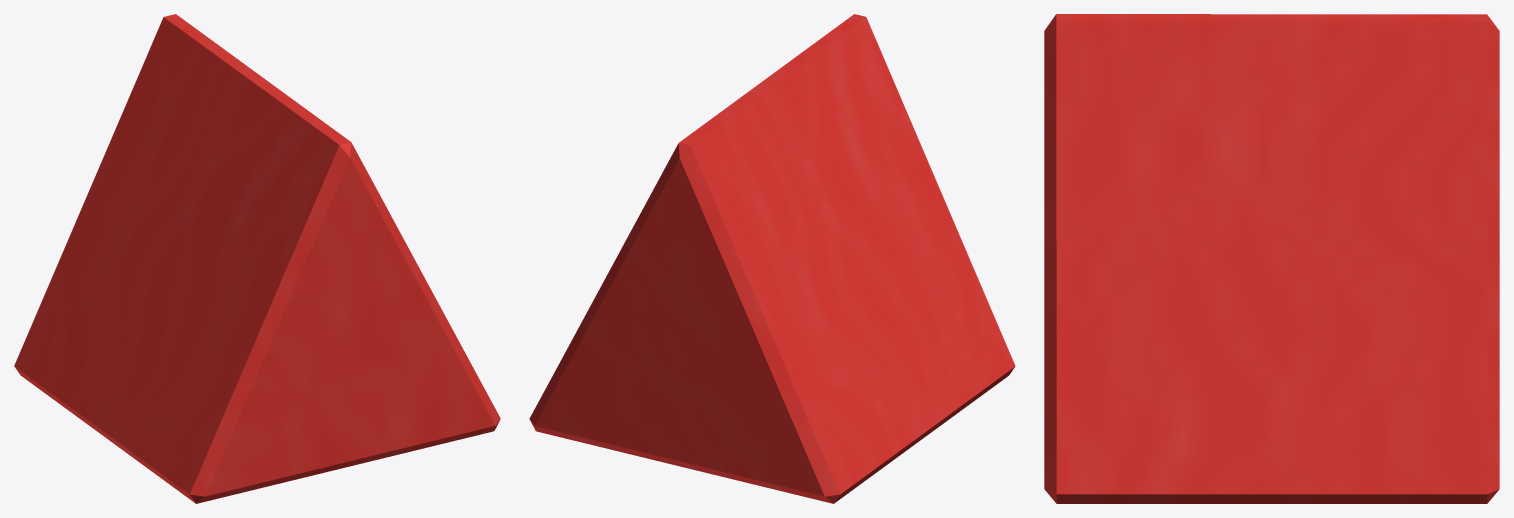
Rendered from Trongle.fbx.
3 renders of one model, left to right at view 1: azimuth 30°, elevation 25°; view 2: azimuth 150°, elevation 25°; view 3: azimuth 270°, elevation 25°, orthographic. The views are drawn at different scales.
Visible parts, largest first — view 1: TRONGLE; view 2: TRONGLE; view 3: TRONGLE.
Part boxes in pixels (x1,y1,x2,y2): TRONGLE: [14, 14, 500, 503]; TRONGLE: [529, 14, 1015, 503]; TRONGLE: [1044, 14, 1499, 503].
Size of the model in its own units: 96.76 by 96.31 by 100.
